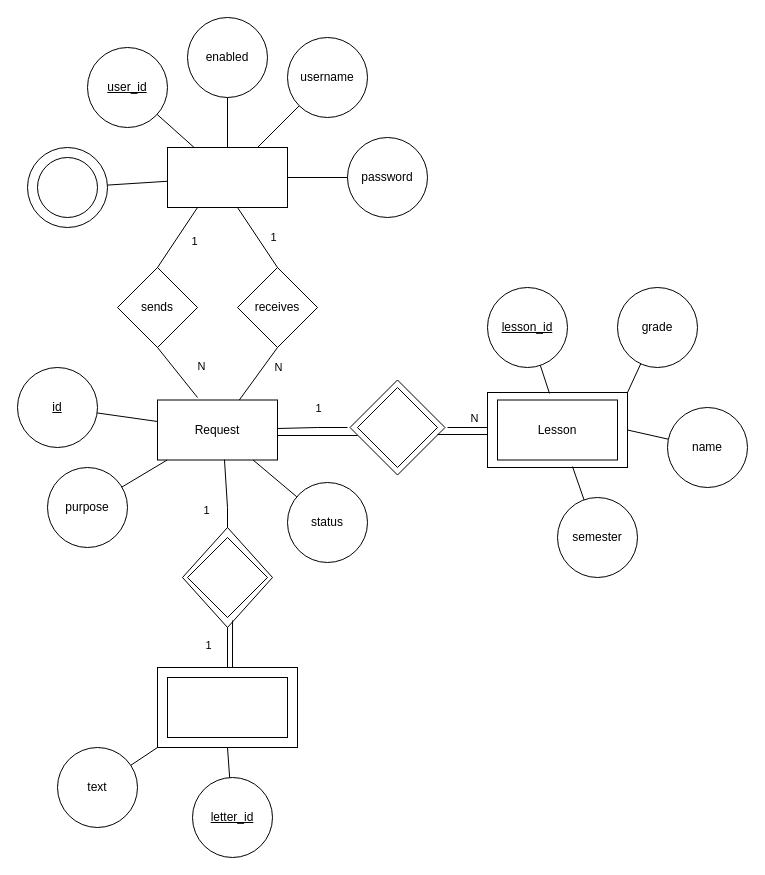
This 765x875 diagram has some shape labels left out. Each missing label, with the centre of its shape:
"contains" goes at point 397,427.
"gets" goes at point 227,577.
"Letter" goes at point 227,707.
"role" goes at point 67,187.
"User" goes at point 227,177.
